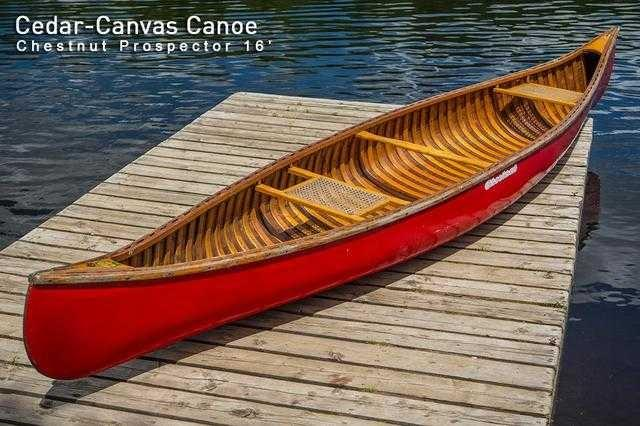kayak: (19, 50, 604, 386)
